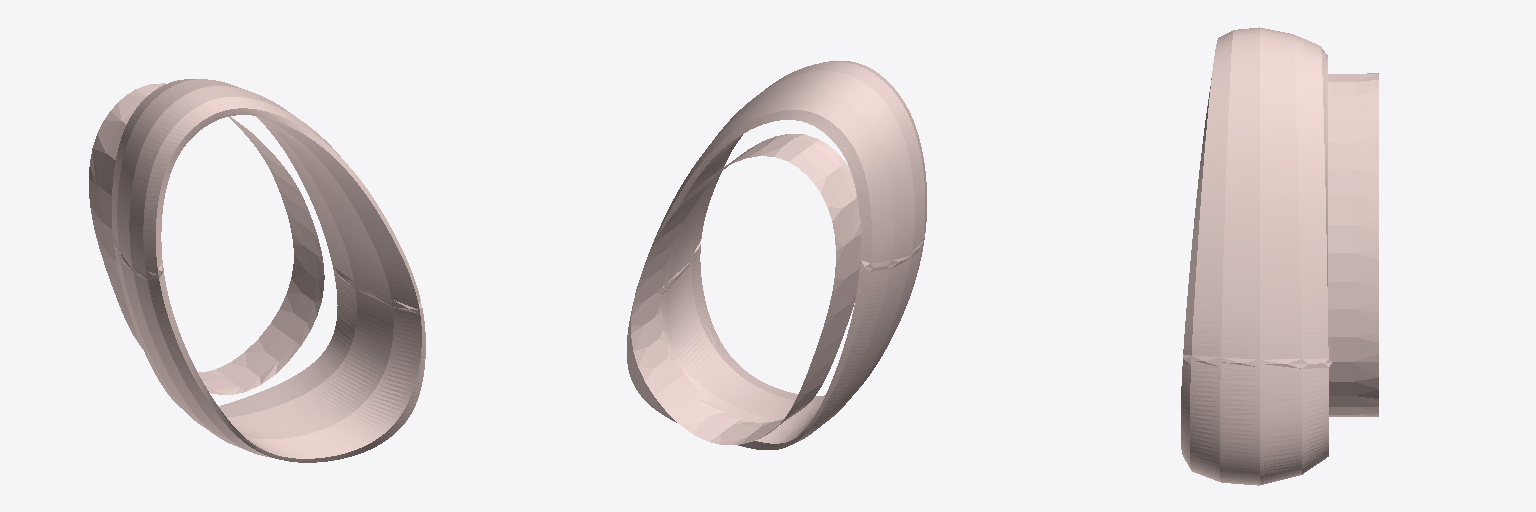
File: opt3-3Glass.obj
The picture shows the model from 3 angles: view 1: azimuth 30°, elevation 25°; view 2: azimuth 150°, elevation 25°; view 3: azimuth 270°, elevation 25°; orthographic projection.
Bounding box in the file's own units: 80.31 × 107 × 50.54.